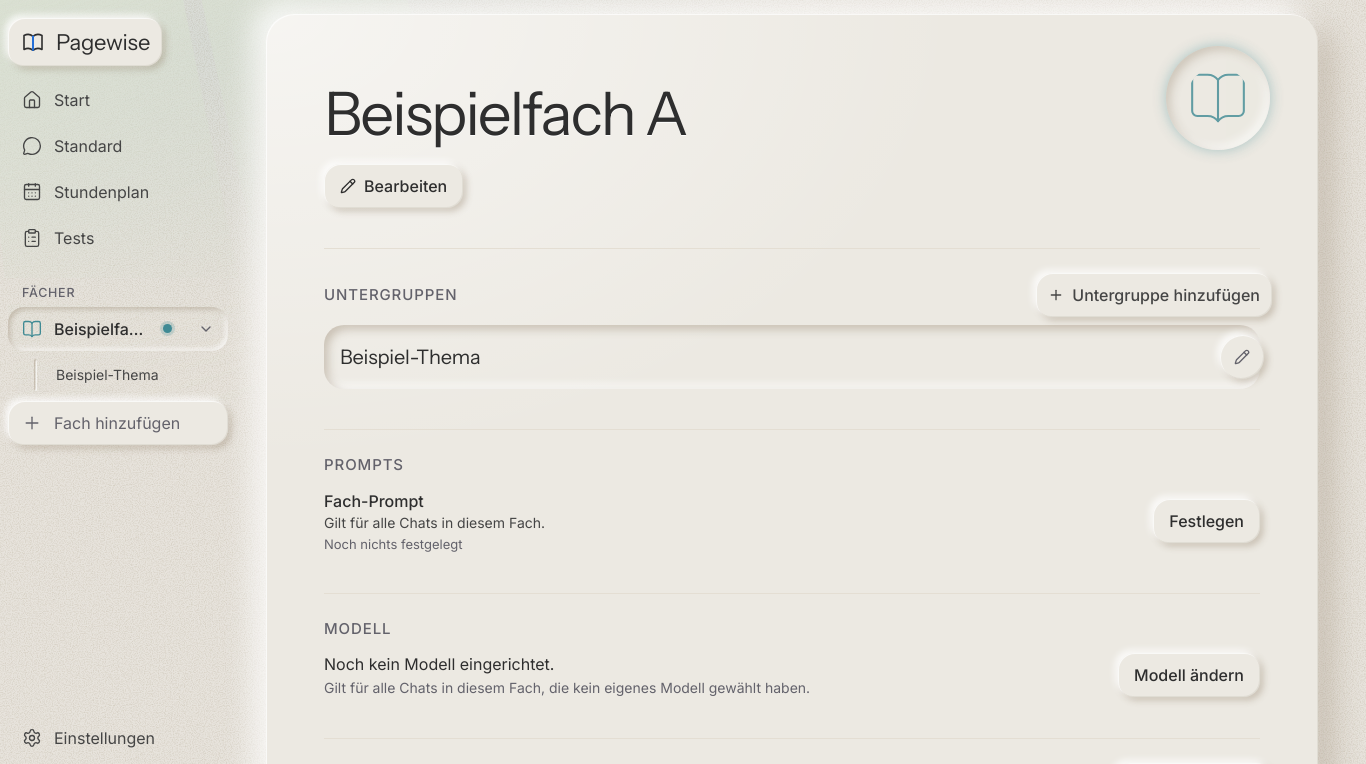
it: Prompts je Ebene › startet ohne Text und füllt nichts vor
Check: the text "Noch nichts festgelegt" is shown, box top-left (324, 536), bottom-right (462, 552)
Click the button with aria-label "Fach-Prompt: Festlegen". click: (1207, 521)
box: top-left (1153, 499), bottom-right (1260, 543)
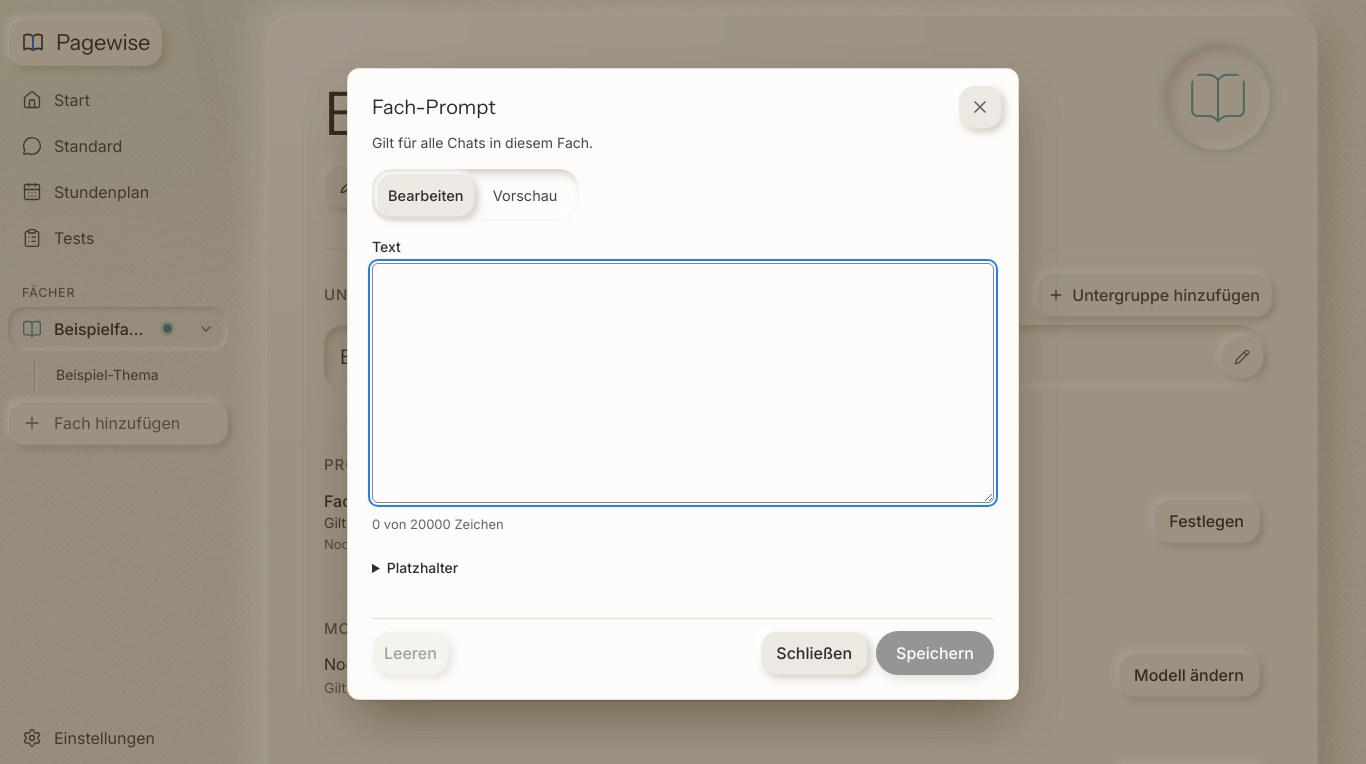
Check: the text box labelled "Text" is empty, box top-left (372, 263), bottom-right (994, 503)
Check: the text "0 von 20000 Zeichen" is shown, box top-left (372, 515), bottom-right (504, 534)
